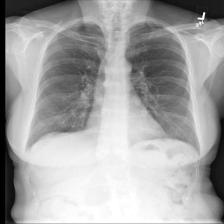normal: (22, 13, 205, 162)
